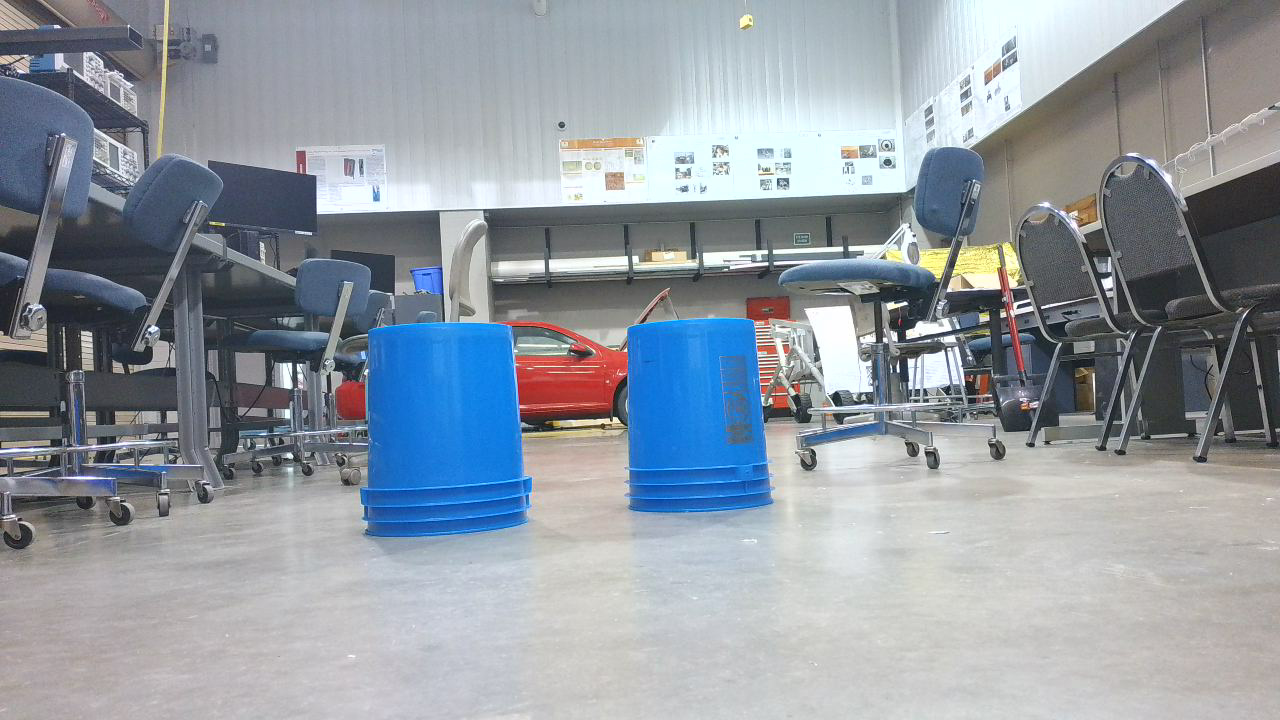blue_bucket: (363, 328, 540, 544), (628, 325, 783, 520)
